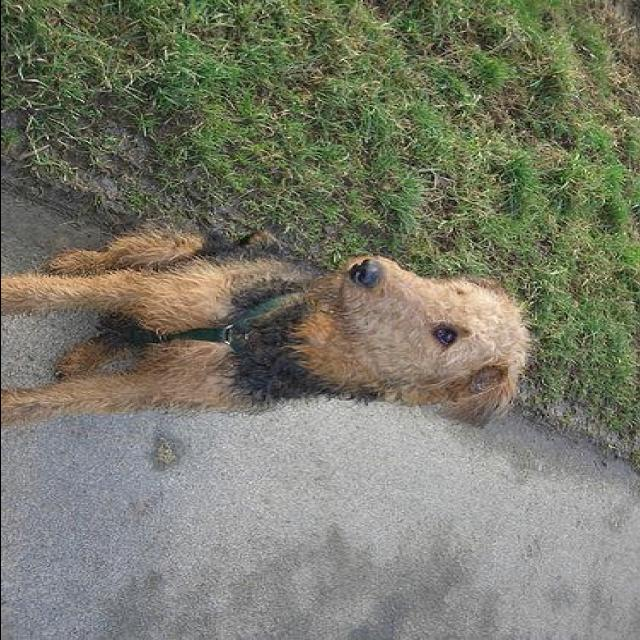airedale: (2, 222, 536, 436)
